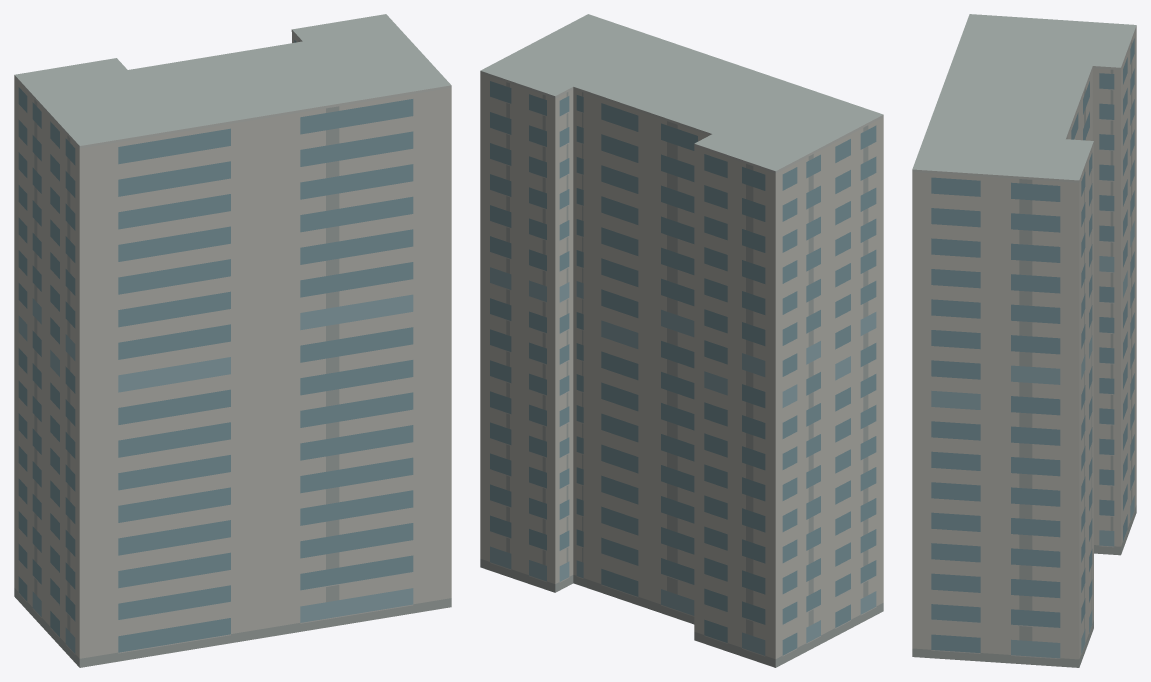
The model's file is residential-948a4031-f4cf-4a7d-b86e-71517804290e.glb.
The picture shows the model from 3 angles, left to right: view 1: azimuth 30°, elevation 25°; view 2: azimuth 150°, elevation 25°; view 3: azimuth 270°, elevation 25°; orthographic projection. The views are drawn at different scales.
Visible parts, largest first — view 1: residential-948a4031-f4cf-4a7d-b86e-71517804290e.tmp; view 2: residential-948a4031-f4cf-4a7d-b86e-71517804290e.tmp; view 3: residential-948a4031-f4cf-4a7d-b86e-71517804290e.tmp.
Boxes of the visible parts, x1,y1,x2,y2 form: residential-948a4031-f4cf-4a7d-b86e-71517804290e.tmp: (14, 14, 451, 667); residential-948a4031-f4cf-4a7d-b86e-71517804290e.tmp: (480, 14, 883, 667); residential-948a4031-f4cf-4a7d-b86e-71517804290e.tmp: (912, 14, 1136, 667).
Size of the model in its own units: 35.75 by 48.8 by 20.37.
